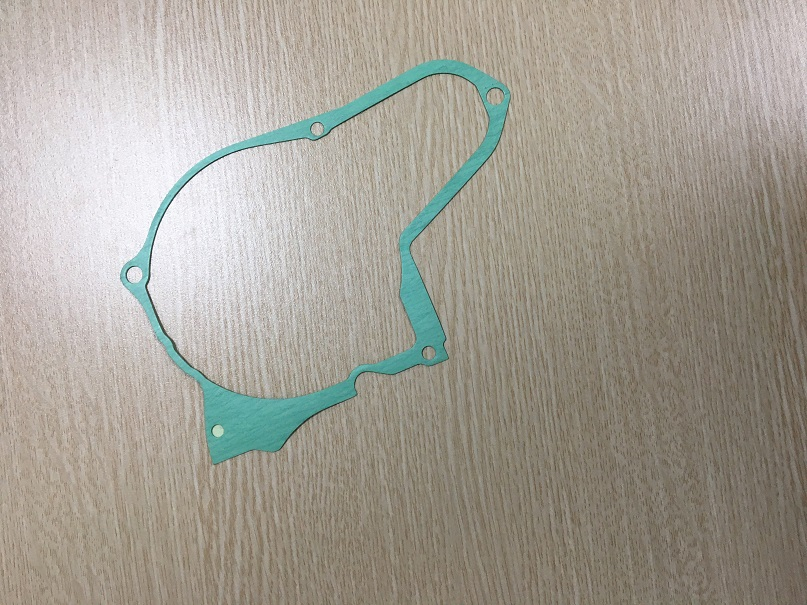type1: (114, 52, 516, 467)
